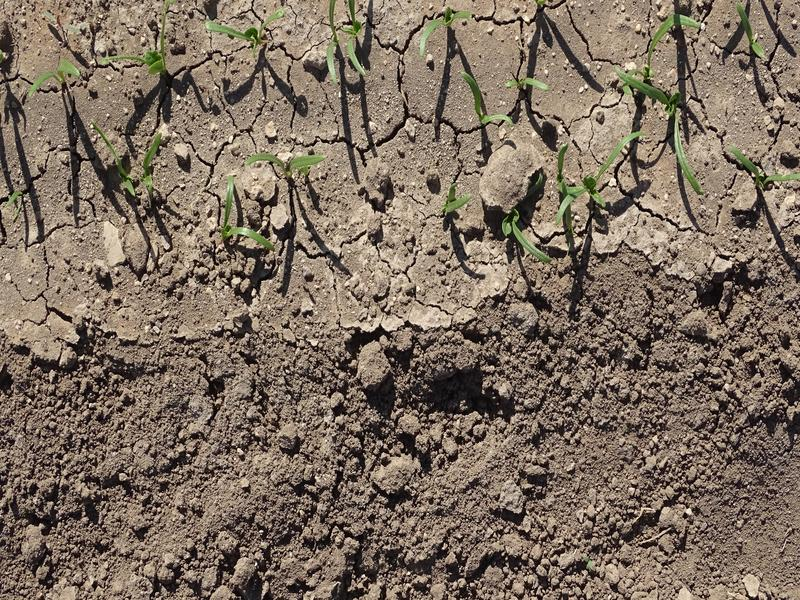Espinaca: (550, 136, 631, 211), (218, 178, 280, 253), (617, 64, 691, 124), (727, 134, 799, 187), (442, 70, 511, 123), (89, 127, 138, 193), (114, 21, 173, 73), (207, 9, 286, 45), (504, 215, 555, 268), (669, 125, 702, 197), (650, 7, 700, 52), (247, 148, 330, 175), (418, 12, 471, 51), (348, 1, 372, 75), (27, 58, 78, 91), (735, 8, 769, 54), (323, 4, 338, 82), (144, 134, 162, 195), (436, 187, 466, 221)
